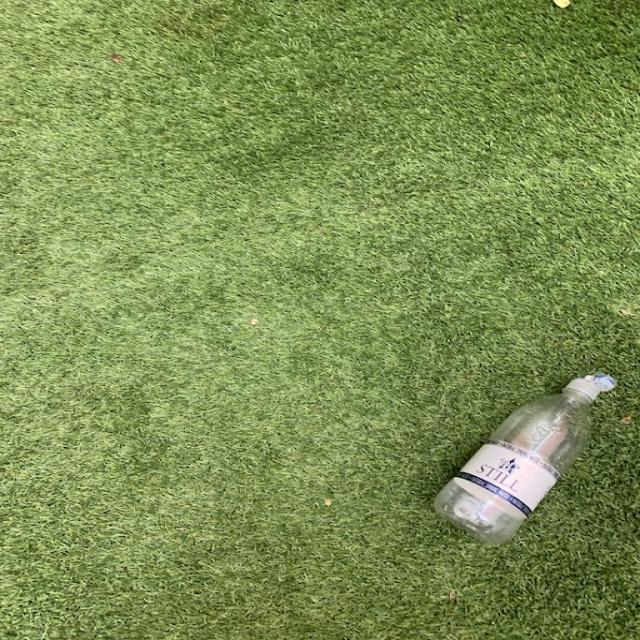litter: (434, 364, 618, 551)
